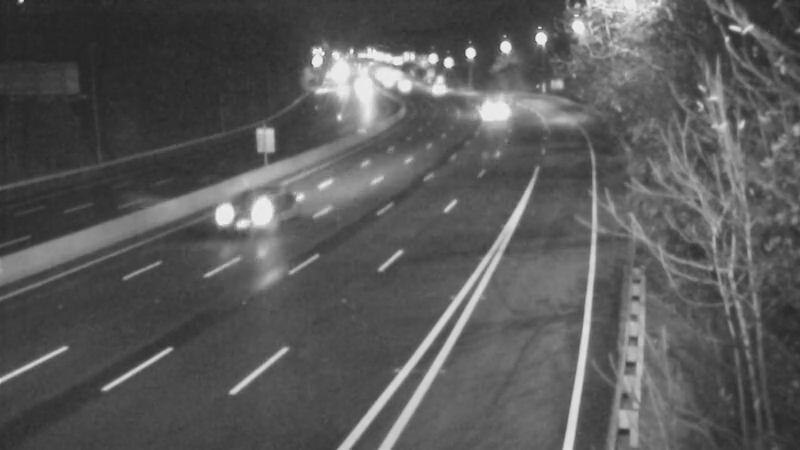vehicle: (206, 170, 286, 250), (375, 60, 425, 110), (415, 62, 465, 112), (464, 88, 514, 138), (339, 66, 389, 116)
